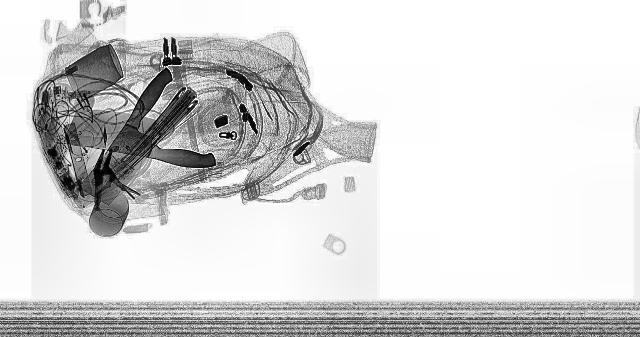Knife: (62, 66, 218, 200), (52, 107, 236, 171)
